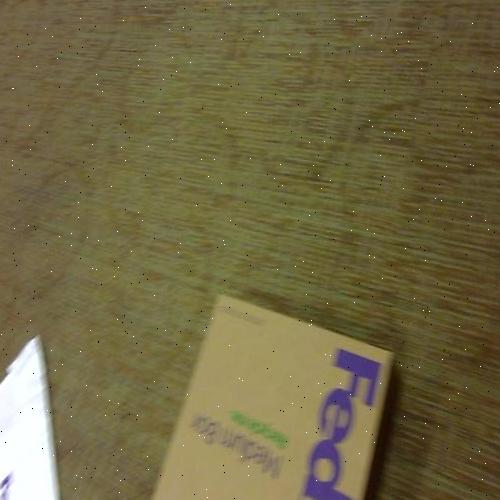Amazon: (195, 295, 400, 500)
